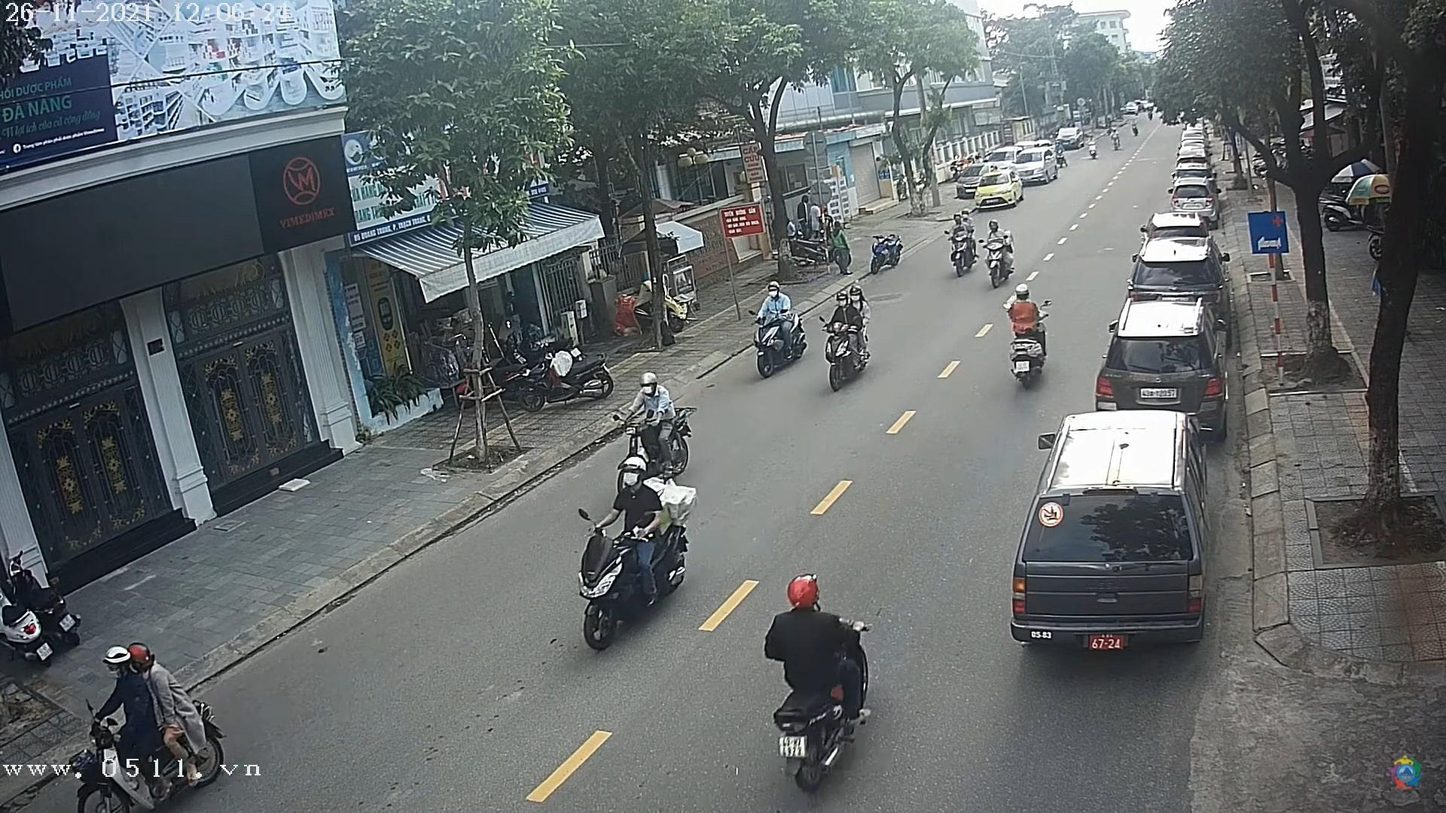car: (1012, 415, 1205, 650), (1096, 303, 1225, 422), (1128, 238, 1229, 301), (1143, 211, 1209, 241), (1170, 183, 1216, 214)
motorbike: (577, 525, 693, 658), (773, 668, 876, 794), (750, 300, 810, 384), (822, 317, 873, 397), (1011, 330, 1052, 389), (984, 239, 1018, 288), (950, 223, 977, 284)
